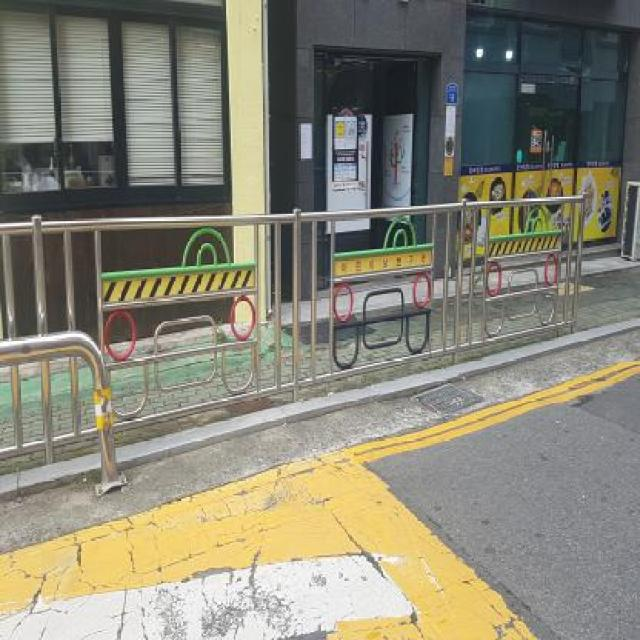fence: (5, 196, 316, 431), (285, 194, 484, 382), (447, 189, 592, 358)
